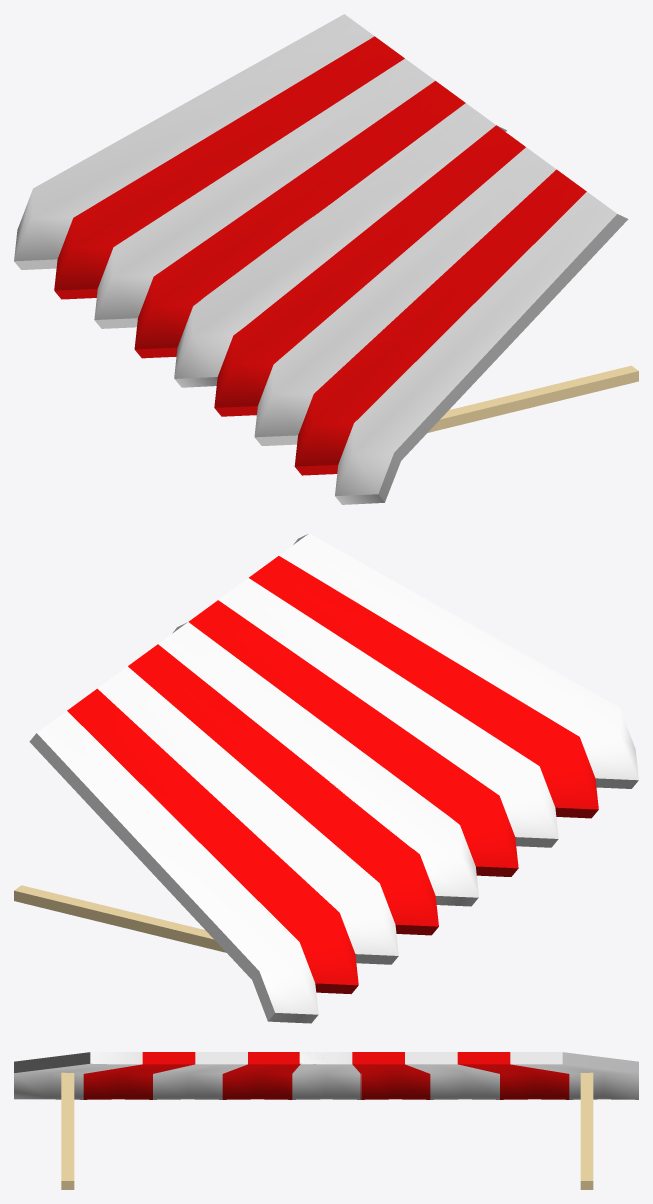
The model's file is WindowRam.fbx.
3 views of the same model, one above another, from view 1: azimuth 30°, elevation 25°; view 2: azimuth 150°, elevation 25°; view 3: azimuth 270°, elevation 25° (orthographic). The views are drawn at different scales.
Visible parts, largest first — view 1: pCube3, pCube2, pCube5; view 2: pCube2, pCube3, pCube4; view 3: pCube2, pCube3, pCube5, pCube4.
Boxes of the visible parts, left/top/right/bottom form: pCube3: left=174, top=108, right=628, bottom=504; pCube2: left=14, top=14, right=506, bottom=387; pCube5: left=428, top=365, right=638, bottom=432; pCube2: left=29, top=622, right=478, bottom=1023; pCube3: left=165, top=533, right=638, bottom=906; pCube4: left=14, top=885, right=226, bottom=952; pCube2: left=299, top=1052, right=638, bottom=1099; pCube3: left=14, top=1052, right=361, bottom=1099; pCube5: left=61, top=1072, right=74, bottom=1189; pCube4: left=580, top=1072, right=593, bottom=1189.
Size of the model in its own units: 0.9128 by 0.5509 by 1.8.
